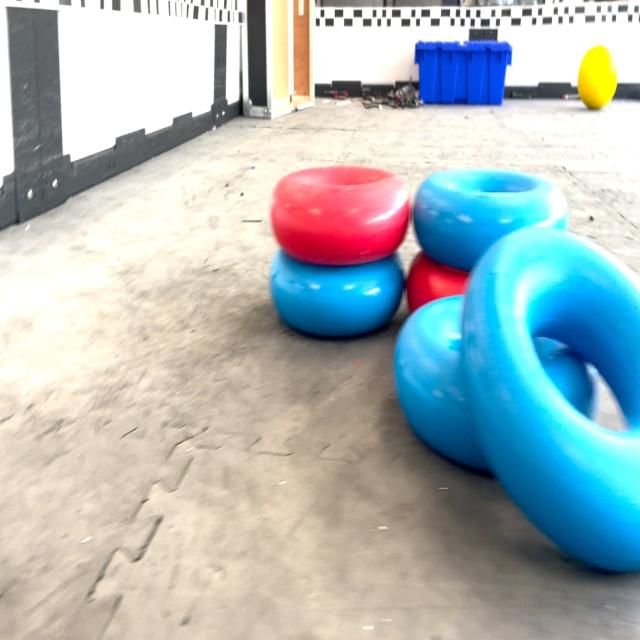Blue-Ring: (462, 229, 640, 571), (394, 296, 488, 469), (414, 169, 569, 271), (270, 249, 404, 338)
Red-Ring: (270, 167, 411, 264), (406, 251, 469, 313)
